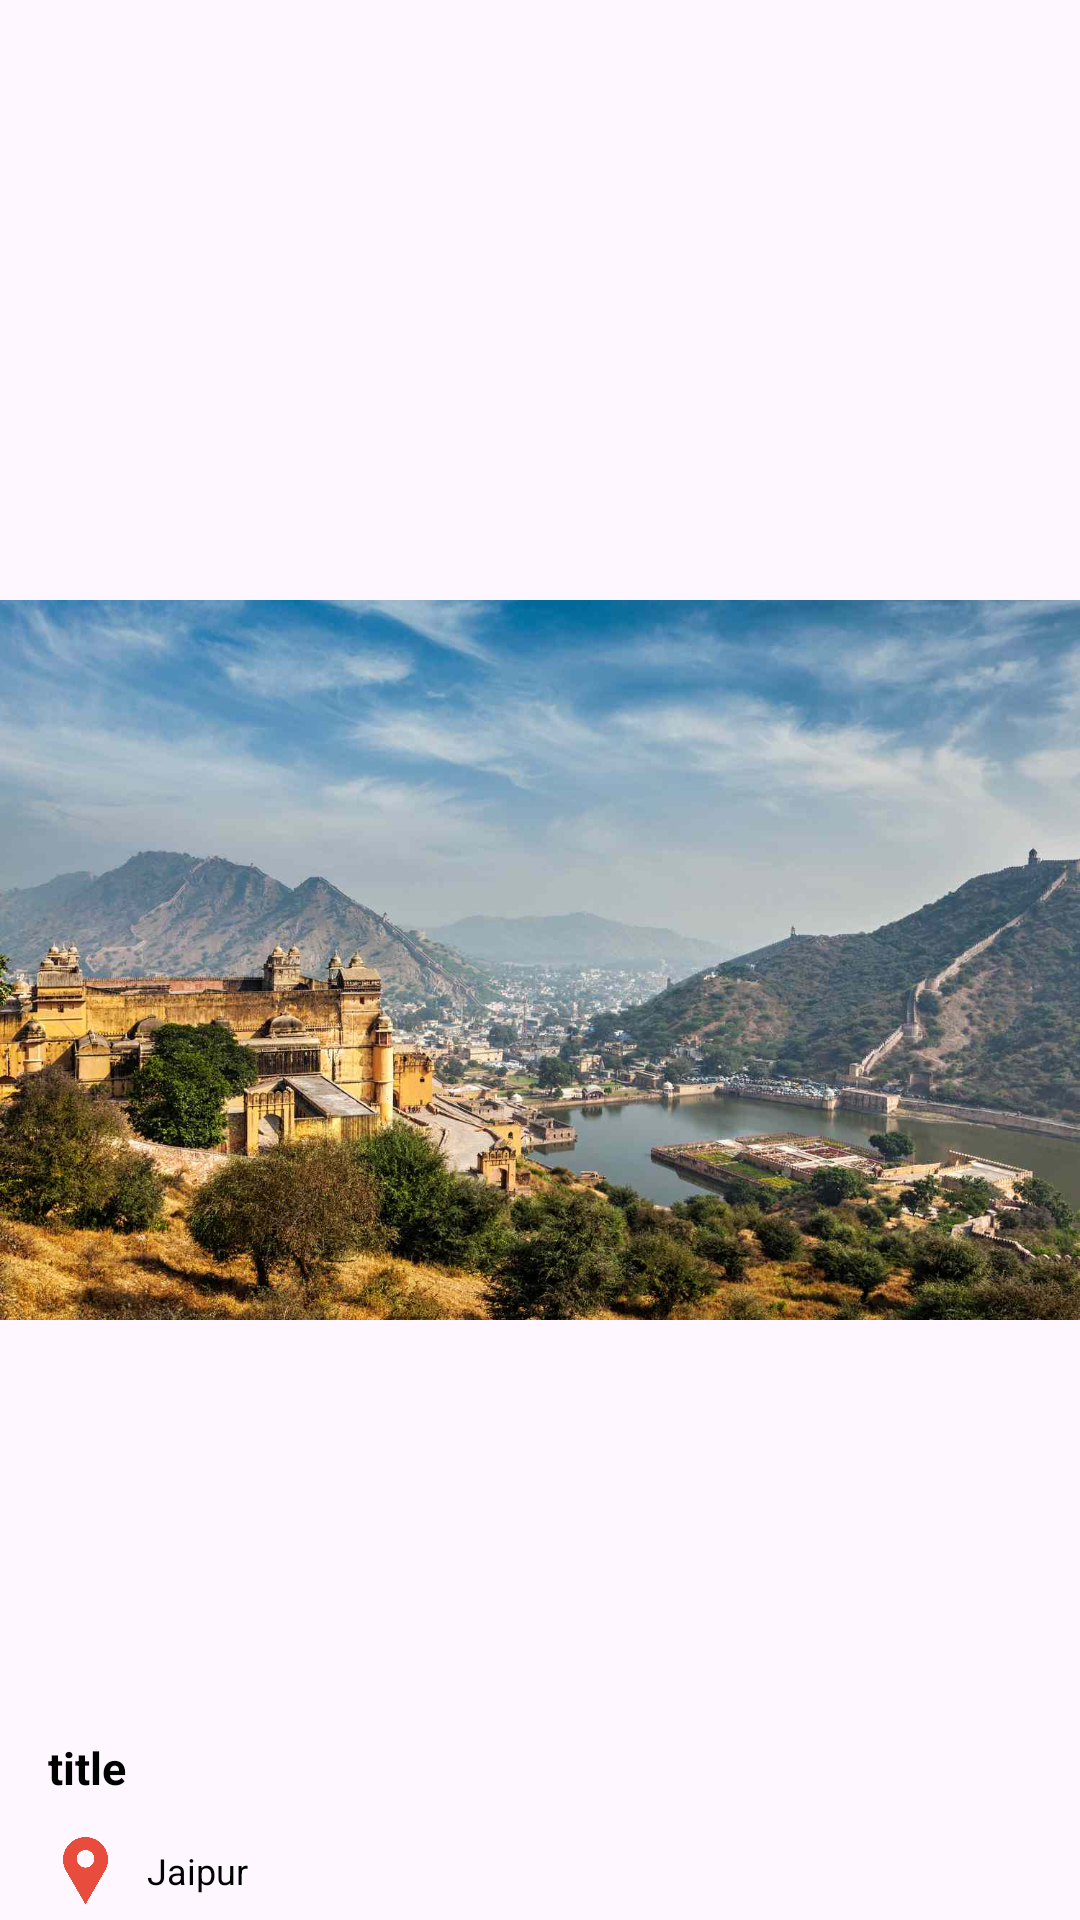

Icons on this 1080 x 1920 Android screen, each with the point to tap as [x,y]:
marker: [85,1870]
